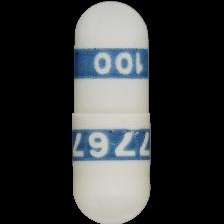43063-559: (0, 0, 224, 224)
